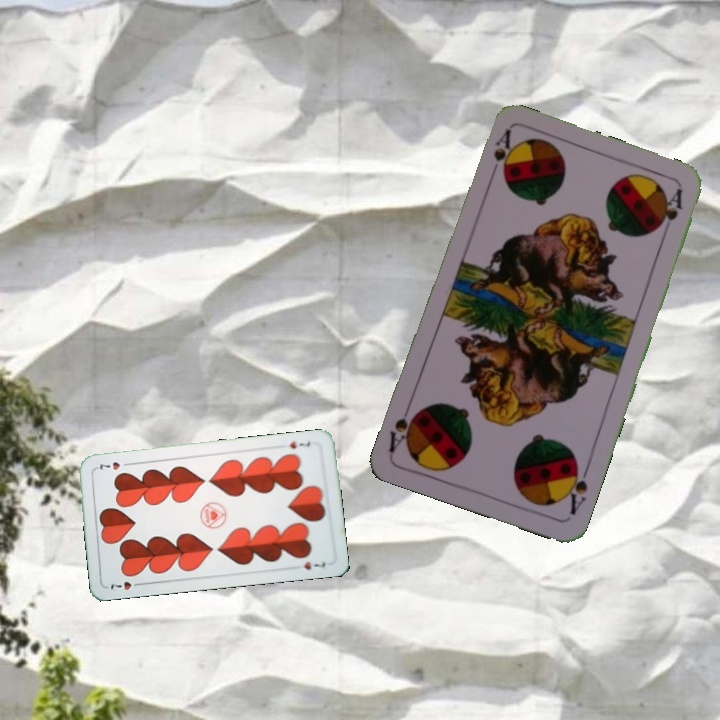H7: (106, 577, 145, 592), (285, 437, 313, 451)
SA: (559, 458, 592, 518), (485, 126, 514, 184)
